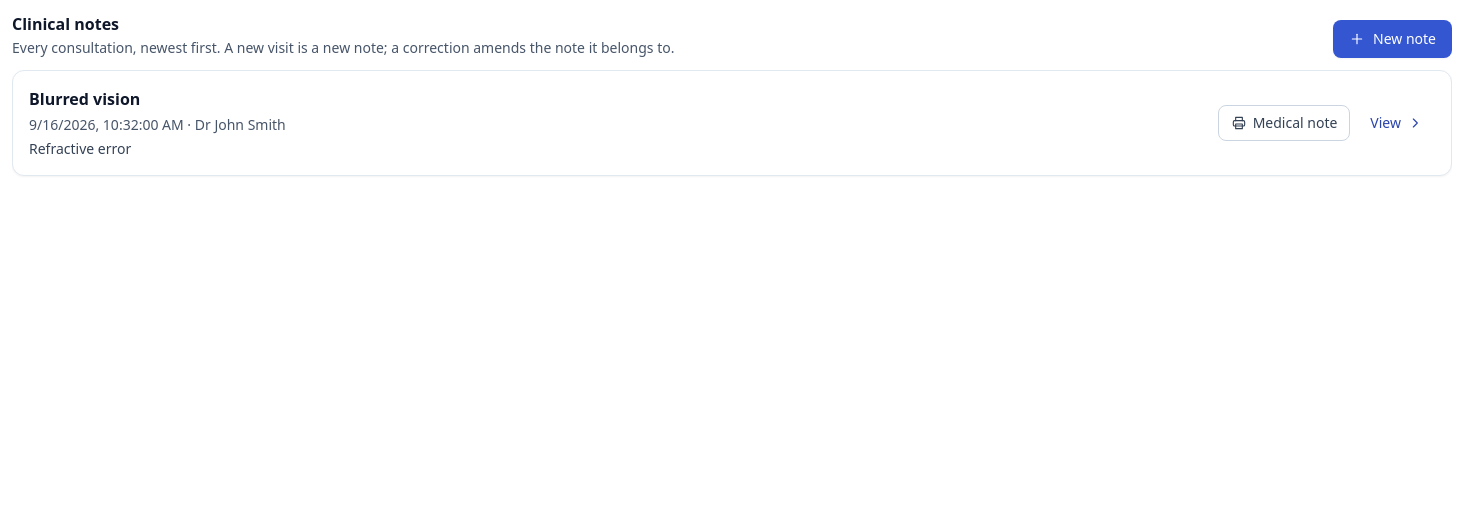
Scenario: the patient's clinical notes › opens a saved note read-only — no form until Amend is pressed
Click the button "Blurred vision". click: (85, 99)
box: x1=29 y1=87 x2=1206 y2=159
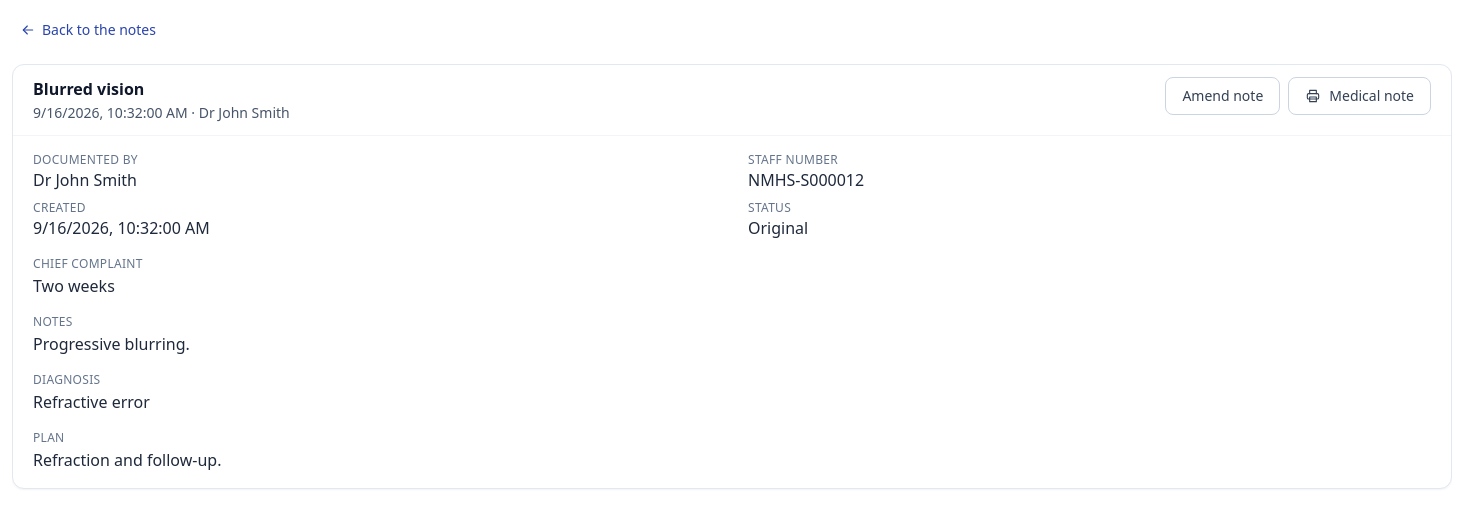
Expected: the text "Refractive error" is shown, x1=33 y1=391 x2=150 y2=413
Result: the button "Amend note" is shown at x1=1165 y1=77 x2=1280 y2=115
